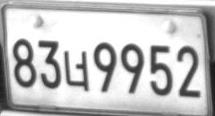2: (176, 44, 201, 98)
3: (37, 39, 61, 89)
5: (149, 45, 173, 95)
8: (12, 37, 37, 88)
9: (92, 41, 117, 92), (120, 42, 144, 94)
너: (63, 50, 90, 92)
